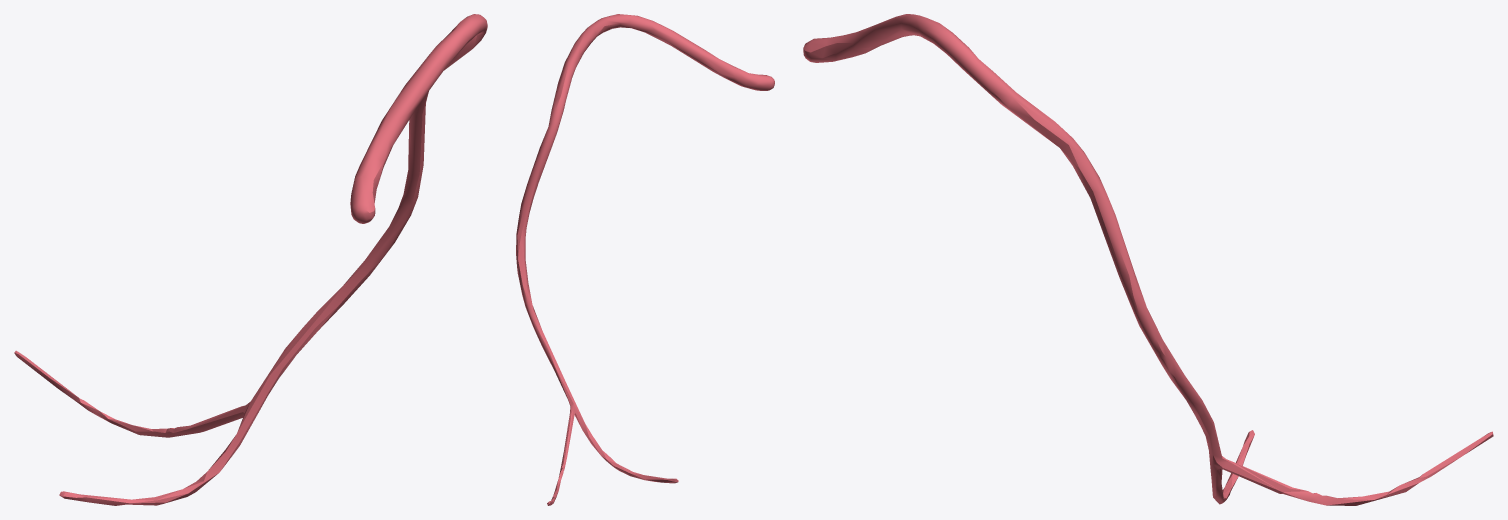
The model's file is fma50468_fj1693m.glb.
3 views of the same model, side by side, from view 1: azimuth 30°, elevation 25°; view 2: azimuth 150°, elevation 25°; view 3: azimuth 270°, elevation 25° (orthographic). The views are drawn at different scales.
Visible parts, largest first — view 1: FMA50468_FJ1693M; view 2: FMA50468_FJ1693M; view 3: FMA50468_FJ1693M.
Part boxes in pixels (x1,y1,x2,y2): FMA50468_FJ1693M: [14, 14, 487, 505]; FMA50468_FJ1693M: [516, 14, 774, 505]; FMA50468_FJ1693M: [803, 14, 1493, 505].
Bounding box in the file's own units: 0.0261 × 0.0456 × 0.0518.
